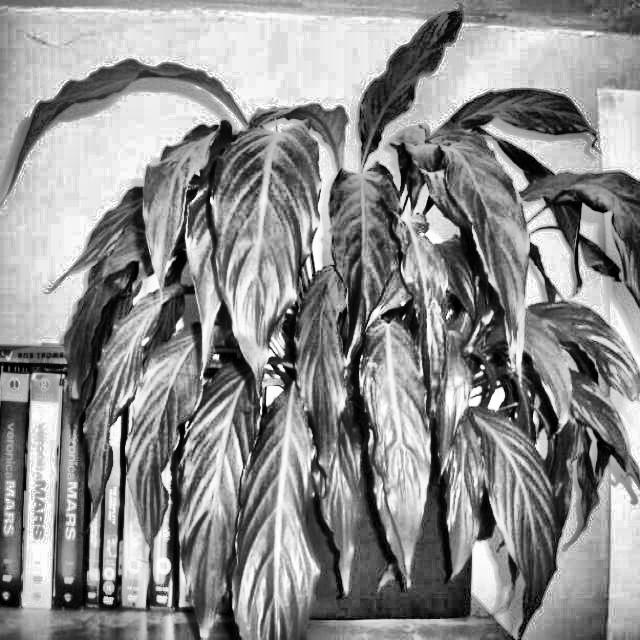plants: (81, 186, 639, 601)
